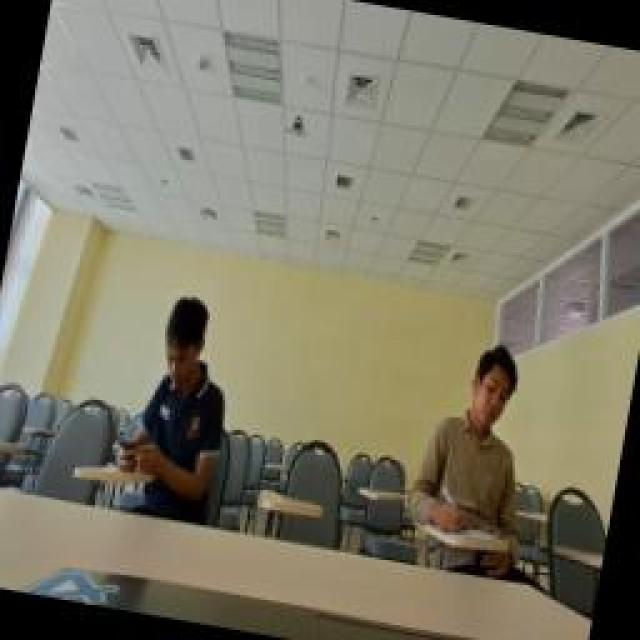phone: (107, 290, 245, 482)
study: (405, 332, 547, 550)
